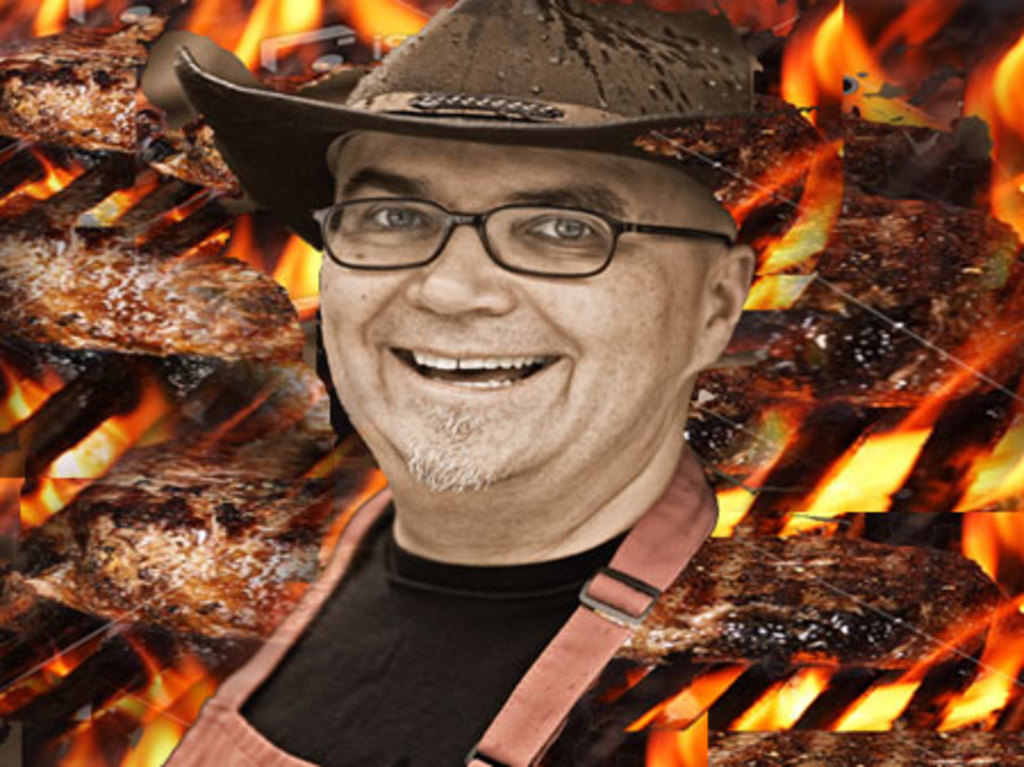Person: (160, 0, 805, 766)
